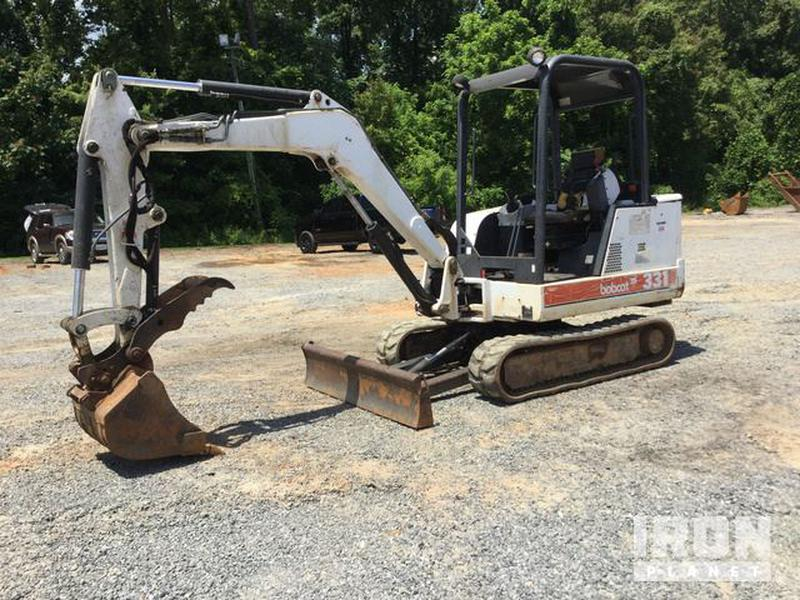shovel: (52, 46, 691, 471)
